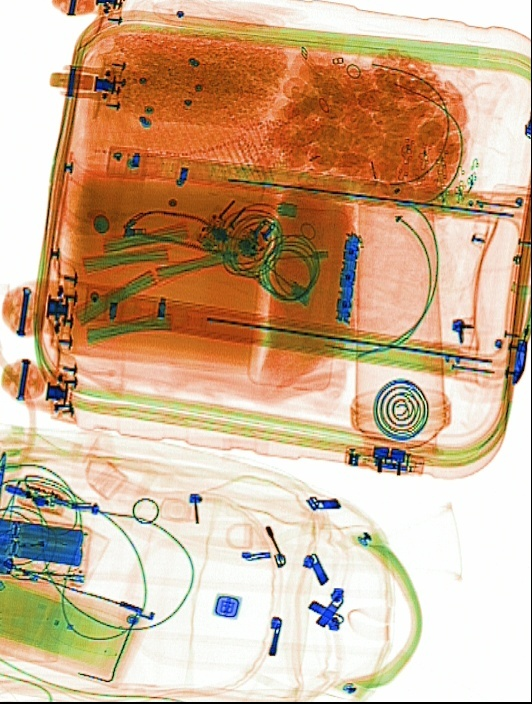powerbank: (0, 505, 91, 582)
